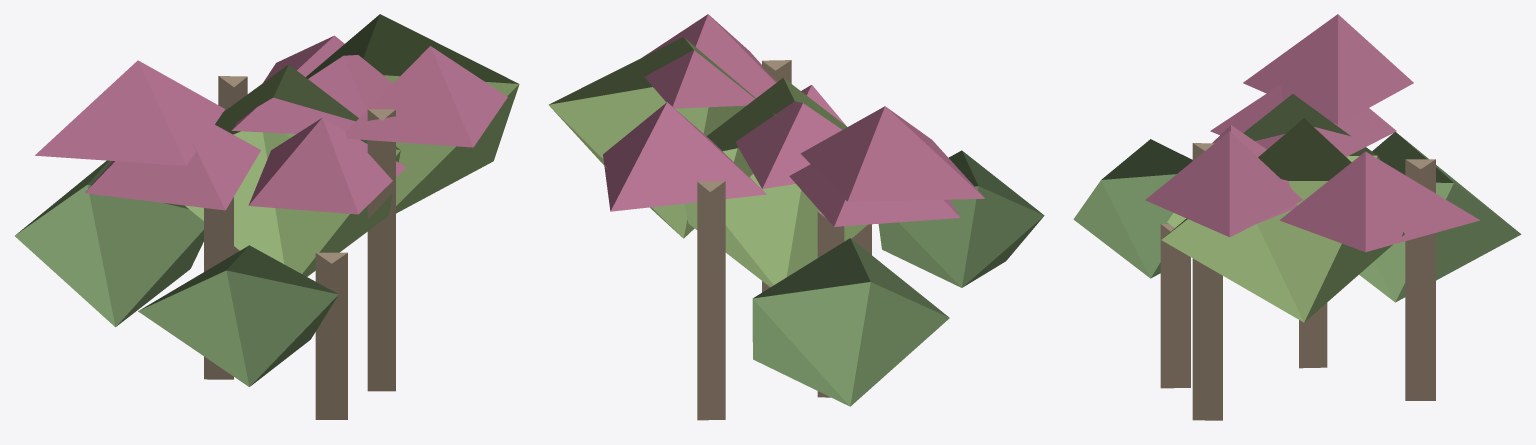
The model's file is shrub.sub.arid_bush__bloom.glb.
The picture shows the model from 3 angles, left to right: view 1: azimuth 30°, elevation 25°; view 2: azimuth 150°, elevation 25°; view 3: azimuth 270°, elevation 25°; orthographic projection. The views are drawn at different scales.
Parts seen in each view (by area): view 1: shrub.sub.arid_bush__bloom; view 2: shrub.sub.arid_bush__bloom; view 3: shrub.sub.arid_bush__bloom.
Boxes of the visible parts, x1,y1,x2,y2 form: shrub.sub.arid_bush__bloom: [15, 14, 519, 419]; shrub.sub.arid_bush__bloom: [548, 14, 1044, 420]; shrub.sub.arid_bush__bloom: [1073, 14, 1521, 420].
Size of the model in its own units: 1.91 by 1.31 by 1.61.
